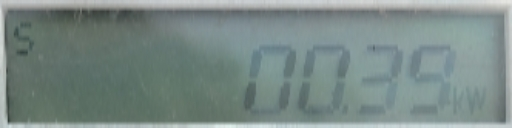0: (244, 42, 299, 122), (296, 40, 351, 120)
3: (355, 38, 410, 118)
9: (406, 39, 461, 119)
d: (340, 104, 354, 118)
